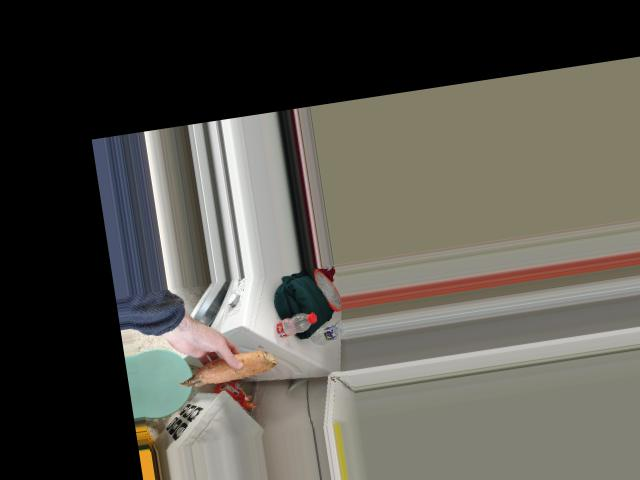sweet_potato: (183, 345, 269, 386)
